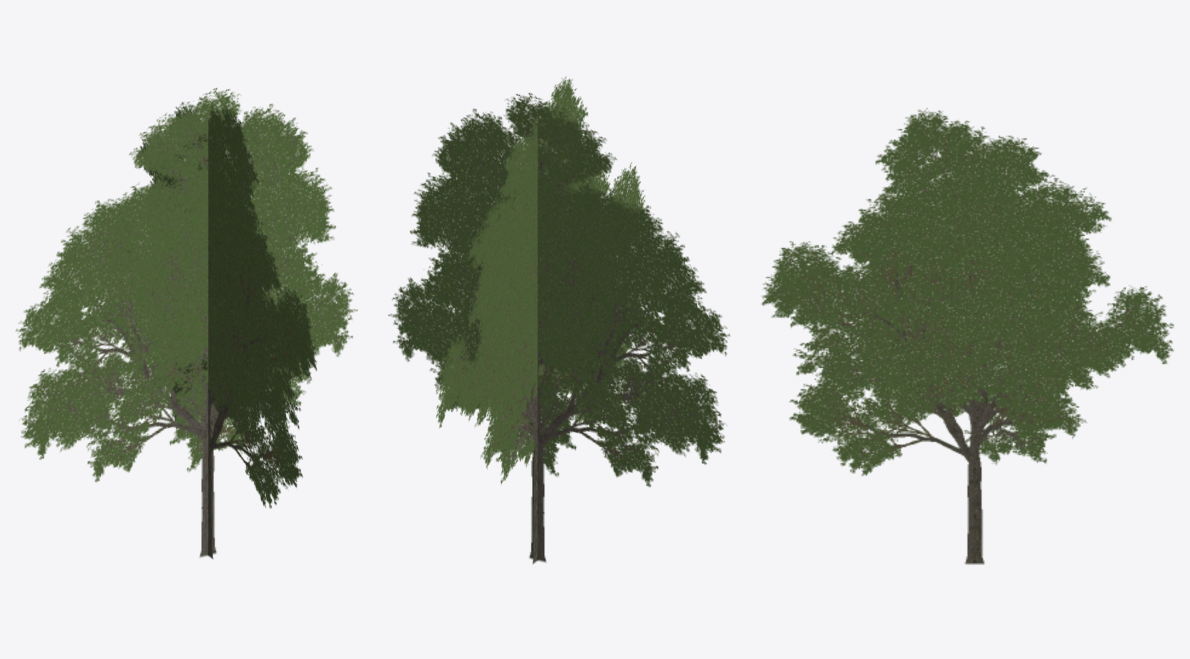
File: RobiniaPseudoacacia.glb
The picture shows the model from 3 angles, left to right: view 1: azimuth 30°, elevation 25°; view 2: azimuth 150°, elevation 25°; view 3: azimuth 270°, elevation 25°; orthographic projection. The views are drawn at different scales.
Visible parts, largest first — view 1: mesh__mat_billboard_13; view 2: mesh__mat_billboard_13; view 3: mesh__mat_billboard_13.
Boxes of the visible parts, bbox=[...] form: mesh__mat_billboard_13: bbox=[15, 88, 357, 559]; mesh__mat_billboard_13: bbox=[388, 76, 730, 564]; mesh__mat_billboard_13: bbox=[761, 108, 1173, 564].
Bounding box in the file's own units: 21.09 × 27.79 × 22.47.
1 material, 1 textured.
